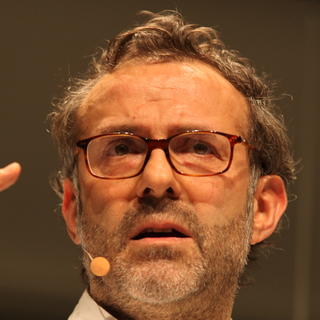eye: (102, 136, 144, 160), (181, 139, 222, 161)
